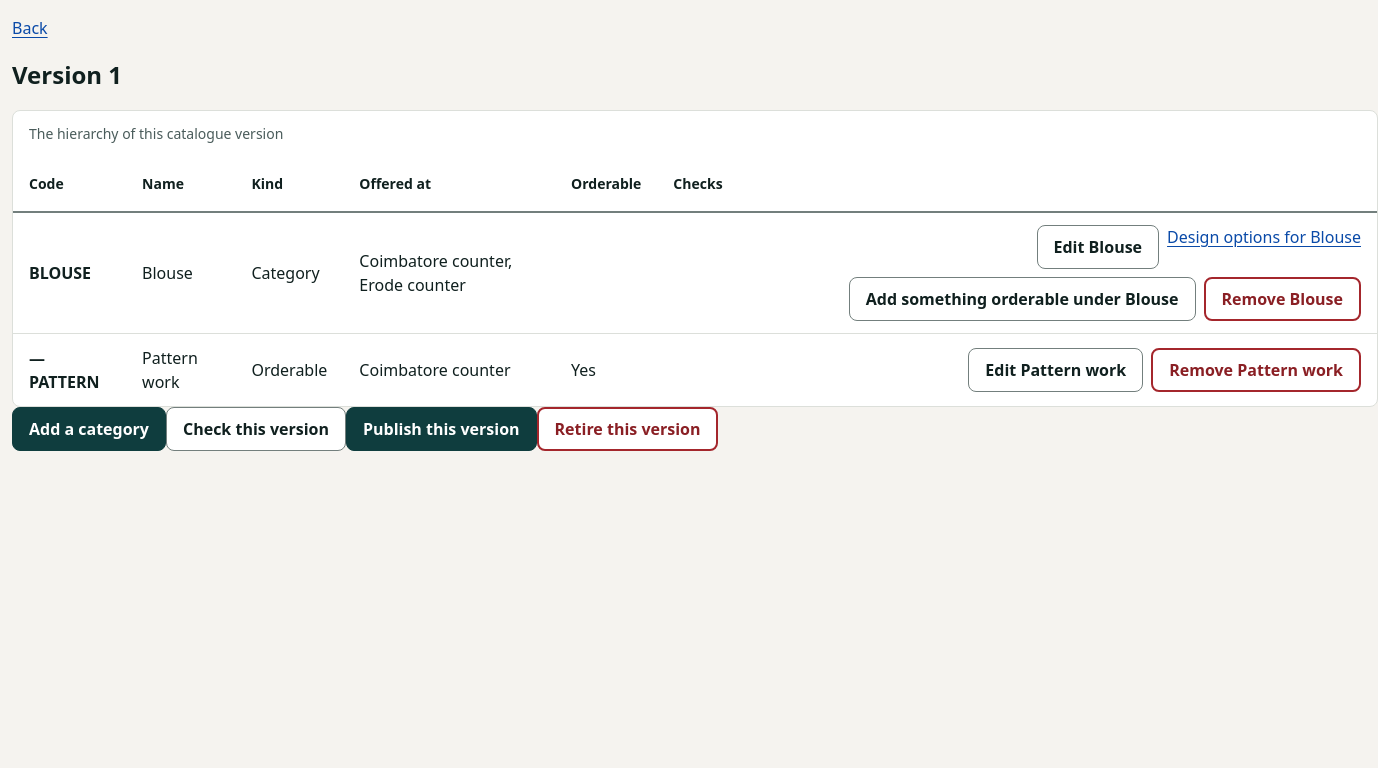
Test case: reports every finding beside the thing it is about
Expected: the table is shown, [13, 111, 1377, 406]
Click the button "Check this version" at (256, 429), box [166, 407, 346, 451]
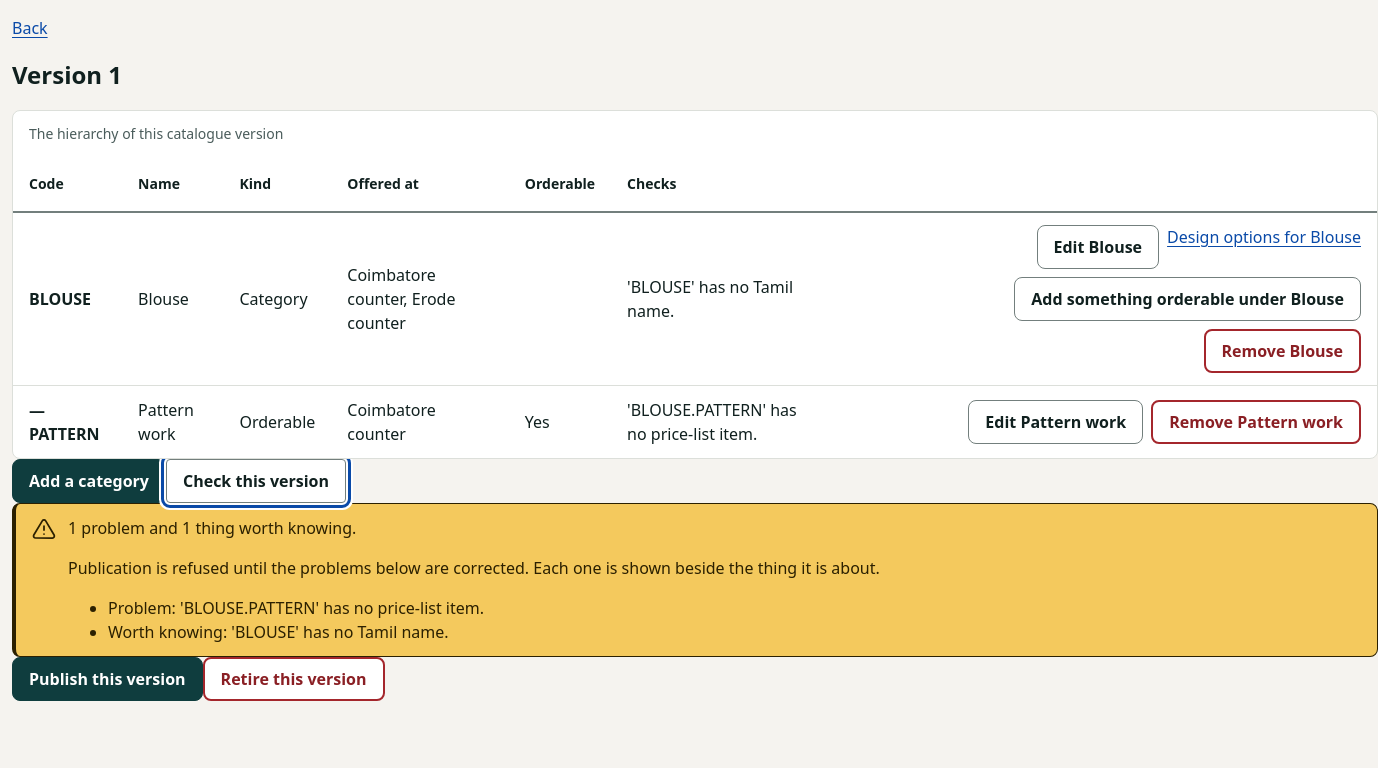
Now the text "'BLOUSE' has no Tamil name." is shown, box [627, 276, 793, 322]
Now the text "'BLOUSE.PATTERN' has no price-list item." is shown, box [627, 399, 797, 445]
Now the text "Publication is refused" is shown, box [68, 557, 880, 579]
